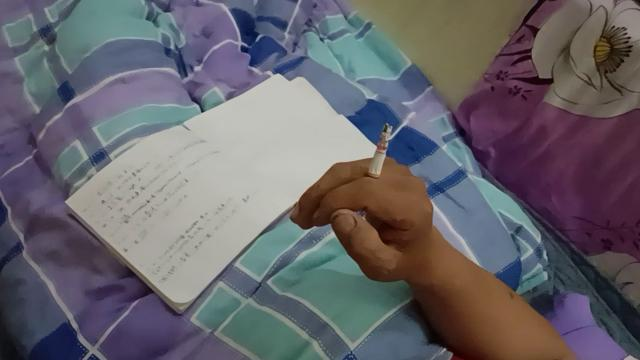Cigarette: (361, 122, 394, 192)
